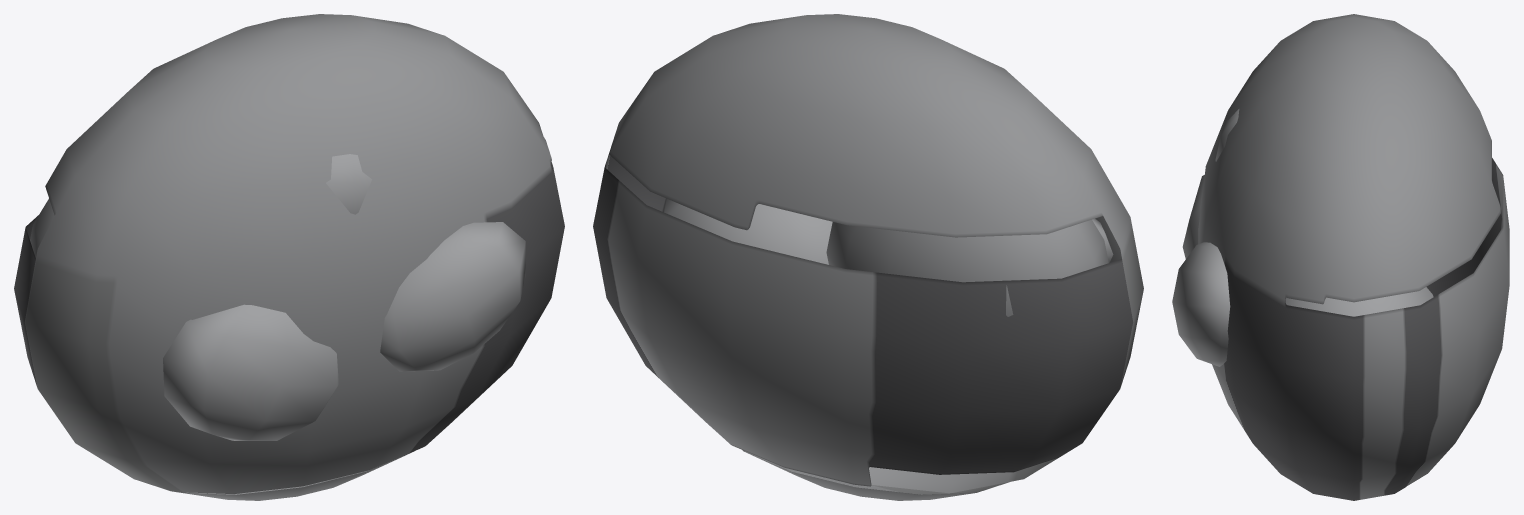
3 renders of one model, left to right at view 1: azimuth 30°, elevation 25°; view 2: azimuth 150°, elevation 25°; view 3: azimuth 270°, elevation 25°, orthographic. The views are drawn at different scales.
Size of the model in its own units: 0.3538 by 0.29 by 0.2083.
